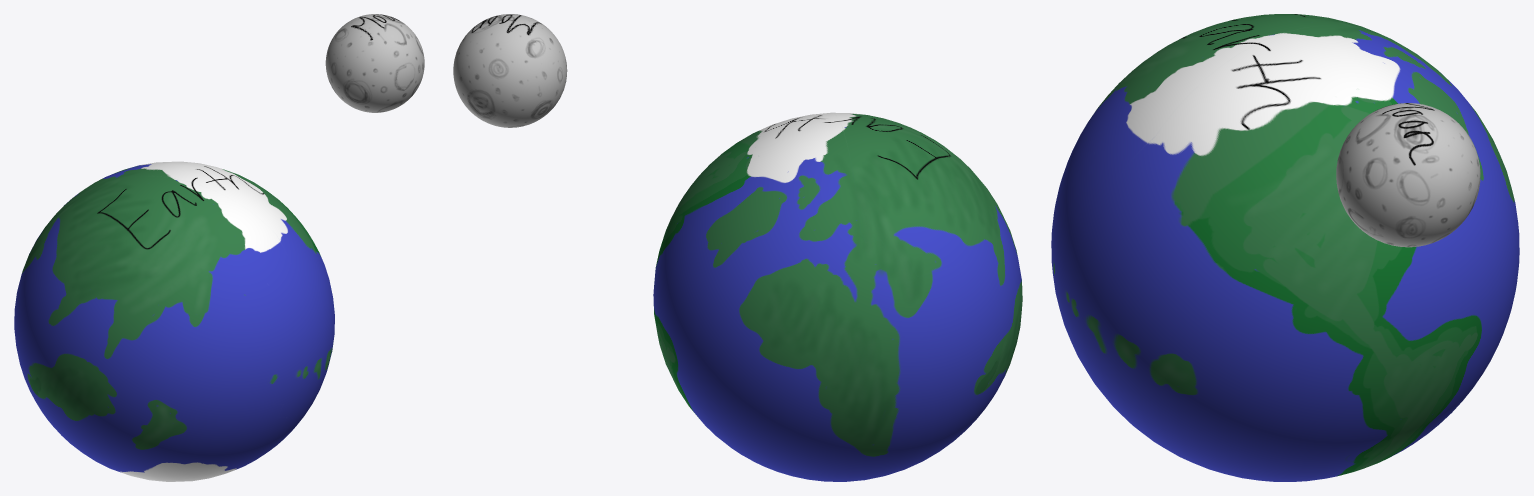
Rendered from earth.gltf.
The picture shows the model from 3 angles, left to right: view 1: azimuth 30°, elevation 25°; view 2: azimuth 150°, elevation 25°; view 3: azimuth 270°, elevation 25°; orthographic projection. The views are drawn at different scales.
Visible parts, largest first — view 1: mesh_id27, mesh_id29; view 2: mesh_id27, mesh_id29; view 3: mesh_id27, mesh_id29.
Part boxes in pixels (box(x1,y1,x2,y2)): mesh_id27: box(14, 161, 334, 481); mesh_id29: box(325, 14, 424, 112); mesh_id27: box(653, 112, 1022, 481); mesh_id29: box(453, 14, 567, 127); mesh_id27: box(1051, 14, 1519, 481); mesh_id29: box(1336, 103, 1480, 247).
Size of the model in its own units: 0.9901 by 0.7994 by 0.648.
2 materials, 2 textured.
